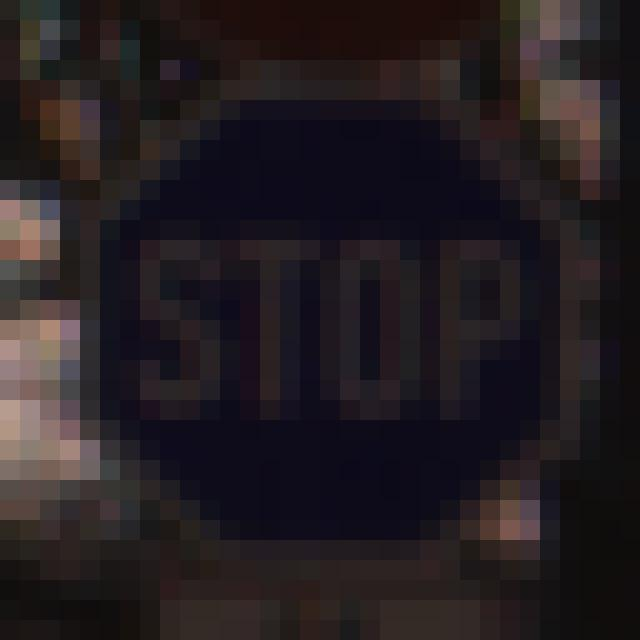STOP: (70, 66, 596, 573)
